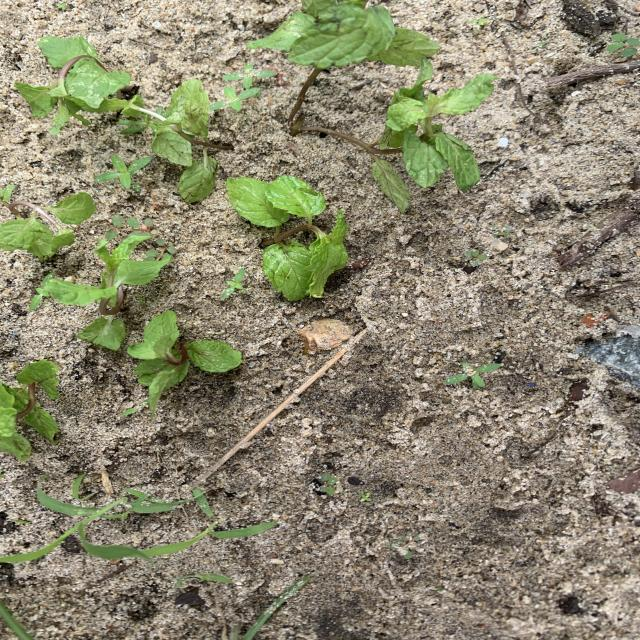crop: (250, 0, 493, 212), (37, 232, 172, 350), (227, 177, 347, 299), (120, 79, 225, 203), (128, 311, 242, 415), (15, 36, 131, 134), (1, 185, 95, 259), (1, 360, 59, 460)
weed: (0, 487, 150, 563), (139, 520, 278, 557), (244, 576, 309, 639), (95, 155, 151, 188), (445, 360, 499, 387), (105, 215, 157, 241), (223, 64, 275, 88), (1, 602, 34, 639), (214, 86, 259, 110), (172, 574, 231, 590), (30, 275, 52, 309), (607, 34, 639, 57), (222, 269, 246, 298), (146, 243, 176, 260), (465, 249, 487, 267), (120, 401, 146, 415), (319, 474, 337, 494), (490, 224, 511, 235), (470, 18, 487, 29), (360, 492, 371, 501), (534, 41, 546, 49), (39, 473, 50, 481), (137, 294, 144, 303)
